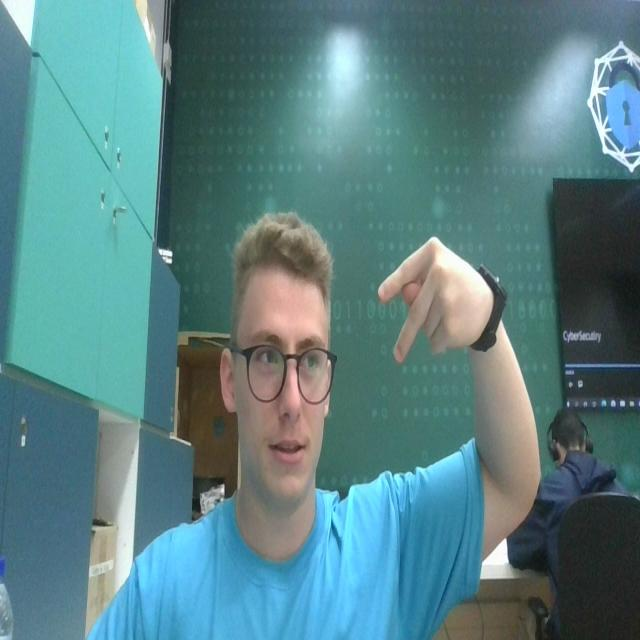P: (370, 218, 486, 364)
